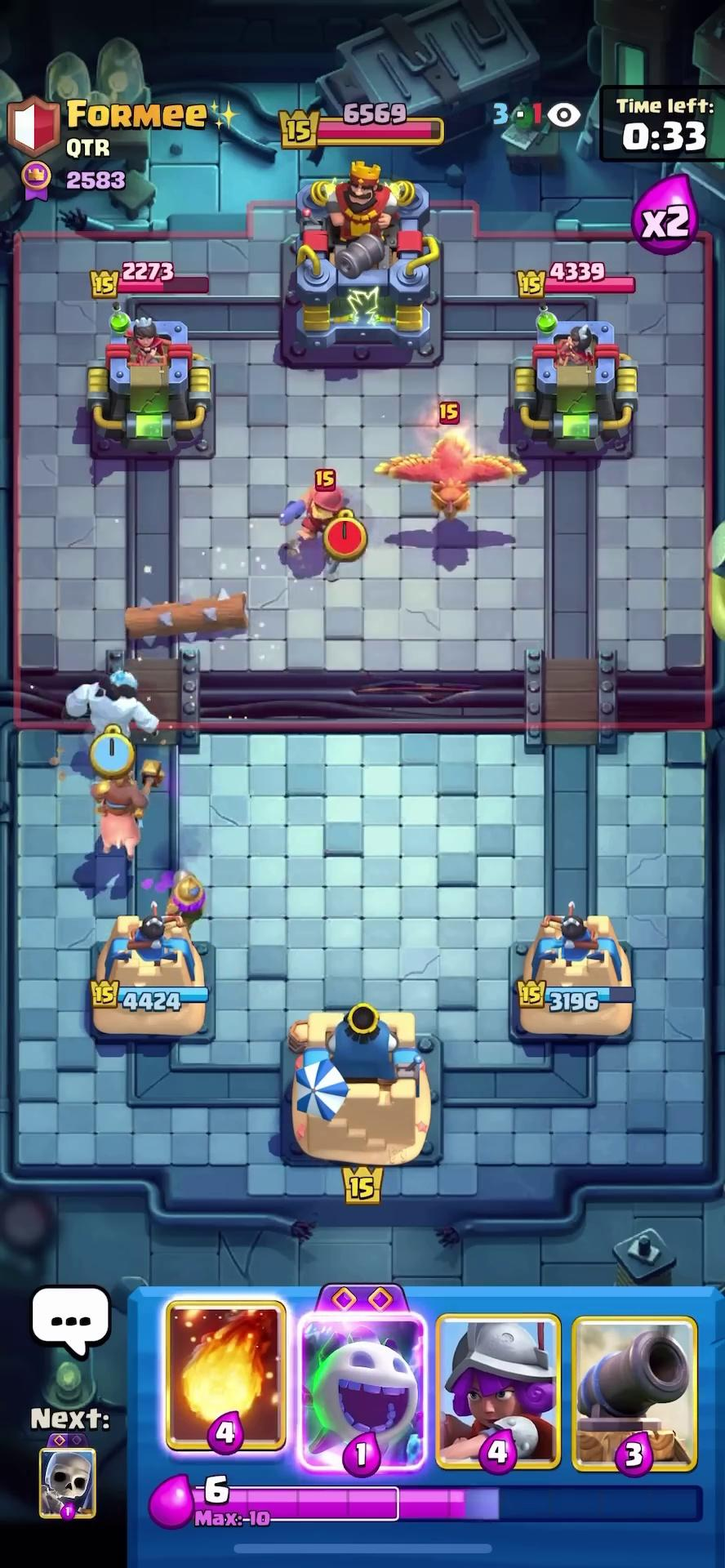hog_rider: (80, 741, 161, 858)
ice_golem: (73, 664, 157, 753)
log: (110, 588, 265, 655)
musketeer: (151, 855, 214, 933)
